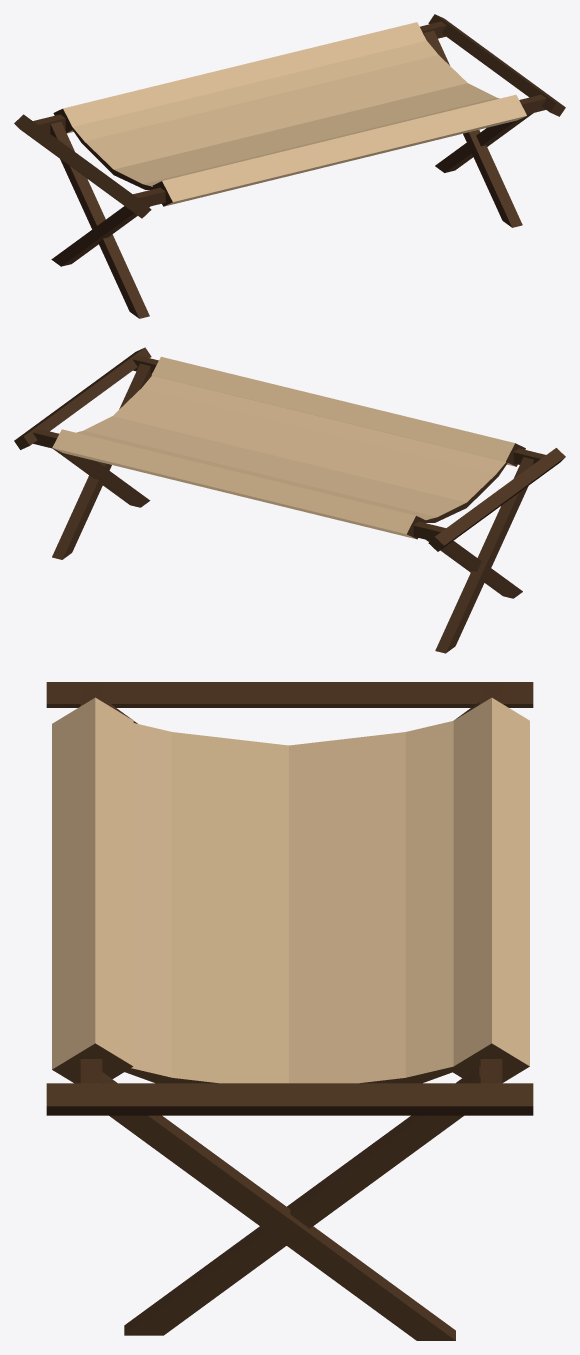
File: Tribal_Plains_Cot_Bed_Cloth_Timber_Wood_01.fbx
The picture shows the model from 3 angles, top to bottom: view 1: azimuth 30°, elevation 25°; view 2: azimuth 150°, elevation 25°; view 3: azimuth 270°, elevation 25°; orthographic projection. The views are drawn at different scales.
Visible parts, largest first — view 1: Tribal_Plains_Cot_Bed_Cloth_Timber_Wood_01; view 2: Tribal_Plains_Cot_Bed_Cloth_Timber_Wood_01; view 3: Tribal_Plains_Cot_Bed_Cloth_Timber_Wood_01.
Boxes of the visible parts, box(x1,y1,x2,y2) form: Tribal_Plains_Cot_Bed_Cloth_Timber_Wood_01: box(14, 14, 565, 318); Tribal_Plains_Cot_Bed_Cloth_Timber_Wood_01: box(14, 347, 565, 653); Tribal_Plains_Cot_Bed_Cloth_Timber_Wood_01: box(46, 682, 533, 1340).
Size of the model in its own units: 2.21 by 0.6854 by 1.08.
